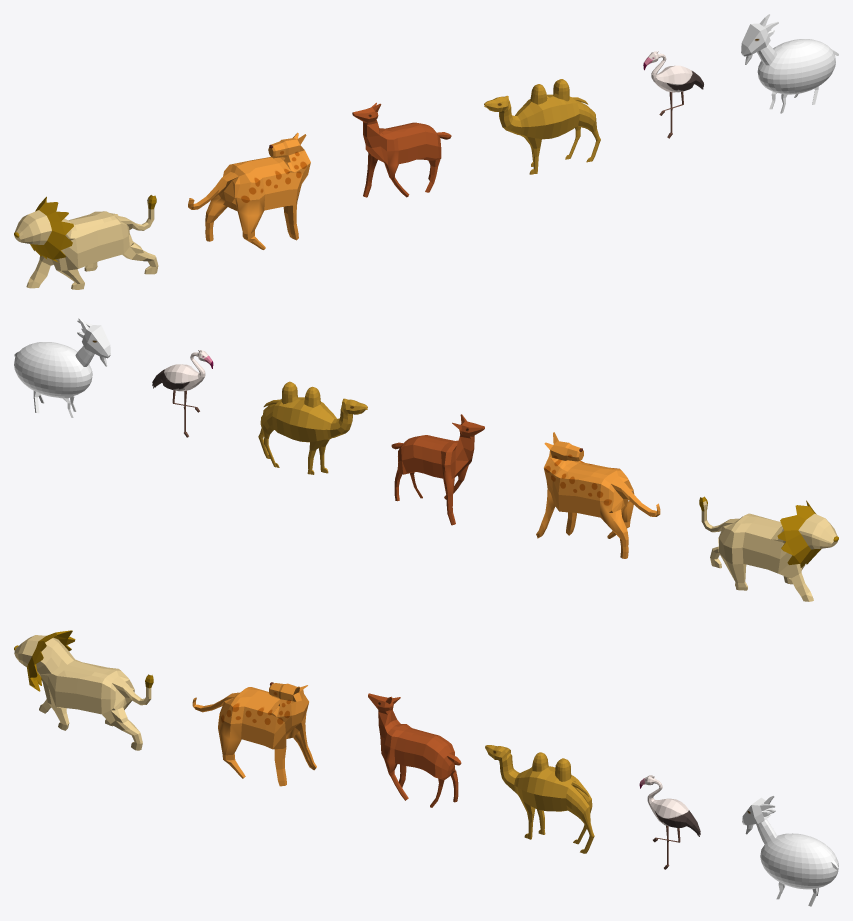
File: animals.gltf
3 views of the same model, one above another, from view 1: azimuth 30°, elevation 25°; view 2: azimuth 150°, elevation 25°; view 3: azimuth 330°, elevation 25° (orthographic).
Visible parts, largest first — view 1: tiger, lion-1, goat, camel, deer, crane, lion; view 2: tiger, lion-1, goat, camel, deer, lion, crane; view 3: lion-1, tiger, camel, goat, deer, crane, lion.
Part boxes in pixels (box(x1,y1,x2,y2)): tiger: box(188, 132, 310, 249); lion-1: box(14, 198, 158, 289); goat: box(741, 14, 838, 113); camel: box(484, 79, 600, 174); deer: box(352, 102, 451, 197); crane: box(643, 51, 703, 138); lion: box(14, 195, 156, 262); tiger: box(536, 432, 660, 558); lion-1: box(701, 501, 837, 601); goat: box(14, 318, 110, 417); camel: box(258, 381, 367, 474); deer: box(391, 414, 484, 525); lion: box(699, 496, 838, 567); crane: box(152, 350, 213, 437); lion-1: box(14, 635, 151, 750); tiger: box(192, 682, 316, 786); camel: box(485, 745, 594, 853); goat: box(742, 795, 838, 906); deer: box(368, 693, 461, 807); crane: box(639, 775, 700, 869); lion: box(14, 630, 153, 691).
Bounding box in the file's own units: 4.56 × 0.5468 × 0.3446.
7 materials, 5 textured.
